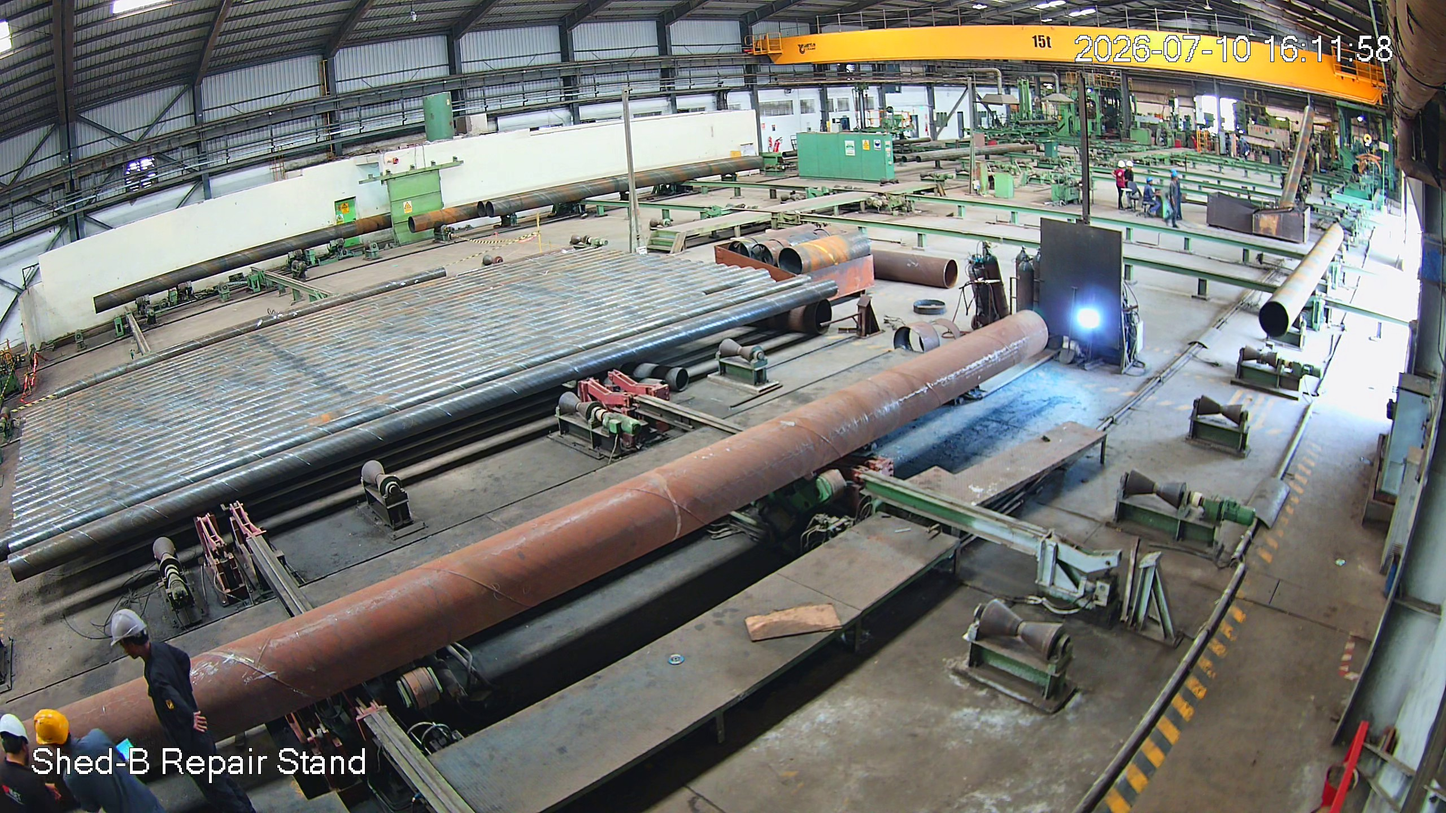Helmet: (106, 604, 186, 666), (31, 694, 80, 759), (0, 708, 33, 771)
Person: (122, 593, 236, 813), (40, 699, 155, 813), (0, 713, 52, 813)
